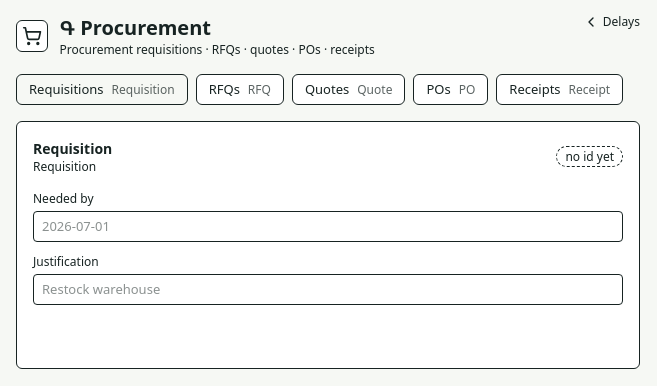
Test case: disabled-until-prior-id guards › PO form is disabled until a quote id exists
Click the tab with test id "procurement-tab-po" at (451, 90), box left=413, top=74, right=488, bottom=105
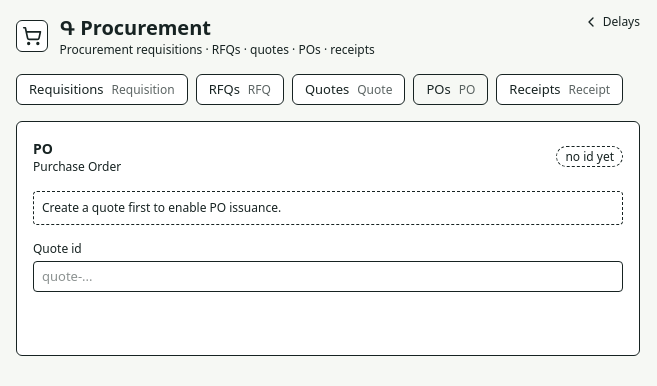
Expected: the element showing "Quote id" is disabled, left=33, top=241, right=623, bottom=292
Expected: the text "Create a quote first to enable PO issuance." is shown, left=33, top=191, right=623, bottom=225
